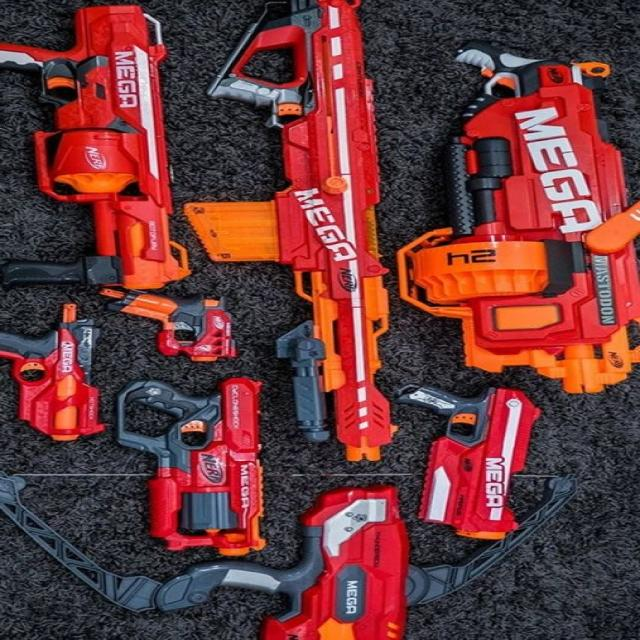Nerf gun: (177, 2, 391, 463), (386, 39, 639, 408), (0, 2, 197, 290), (222, 476, 452, 640), (99, 371, 280, 561), (388, 378, 552, 542), (0, 294, 112, 445), (98, 283, 248, 373)
